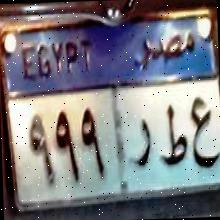9: (25, 107, 56, 188), (50, 104, 81, 184), (79, 103, 108, 179)
Taa: (158, 100, 188, 169)
ain: (188, 92, 220, 173)
raa: (124, 114, 152, 171)
